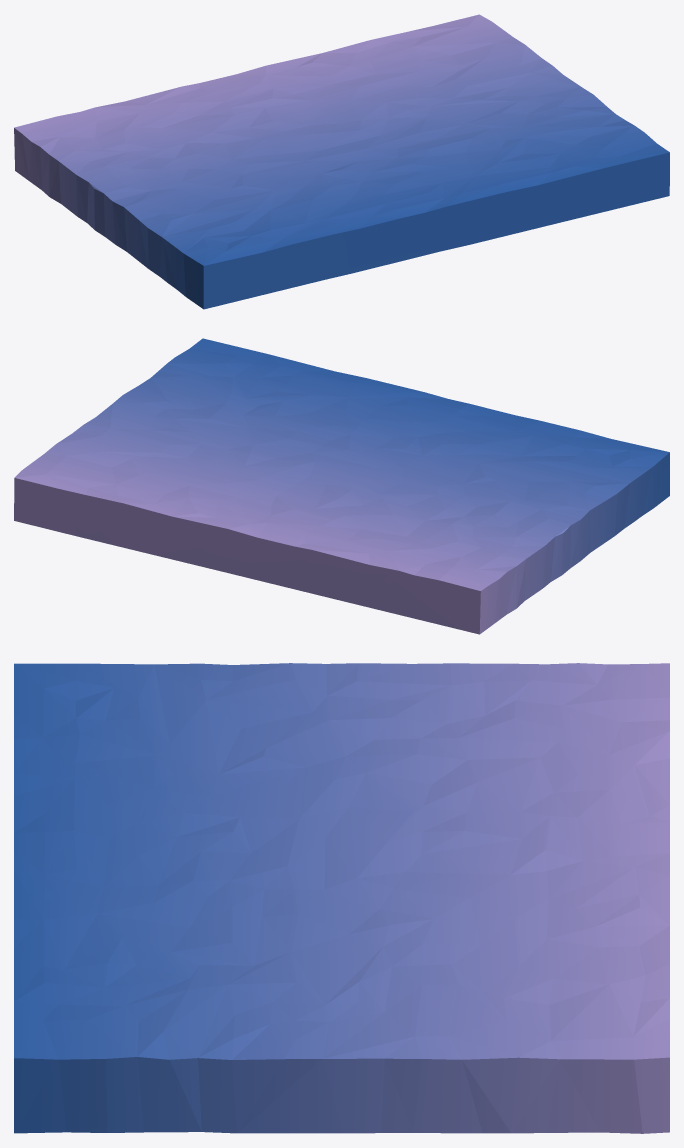
The model's file is Water square.fbx.
3 views of the same model, one above another, from view 1: azimuth 30°, elevation 25°; view 2: azimuth 150°, elevation 25°; view 3: azimuth 270°, elevation 25° (orthographic). The views are drawn at different scales.
Parts seen in each view (by area): view 1: Water square; view 2: Water square; view 3: Water square.
Boxes of the visible parts, box(x1,y1,x2,y2) form: Water square: box(14, 14, 669, 309); Water square: box(14, 338, 669, 634); Water square: box(14, 663, 669, 1133).
Size of the model in its own units: 6835 by 625 by 4770.
